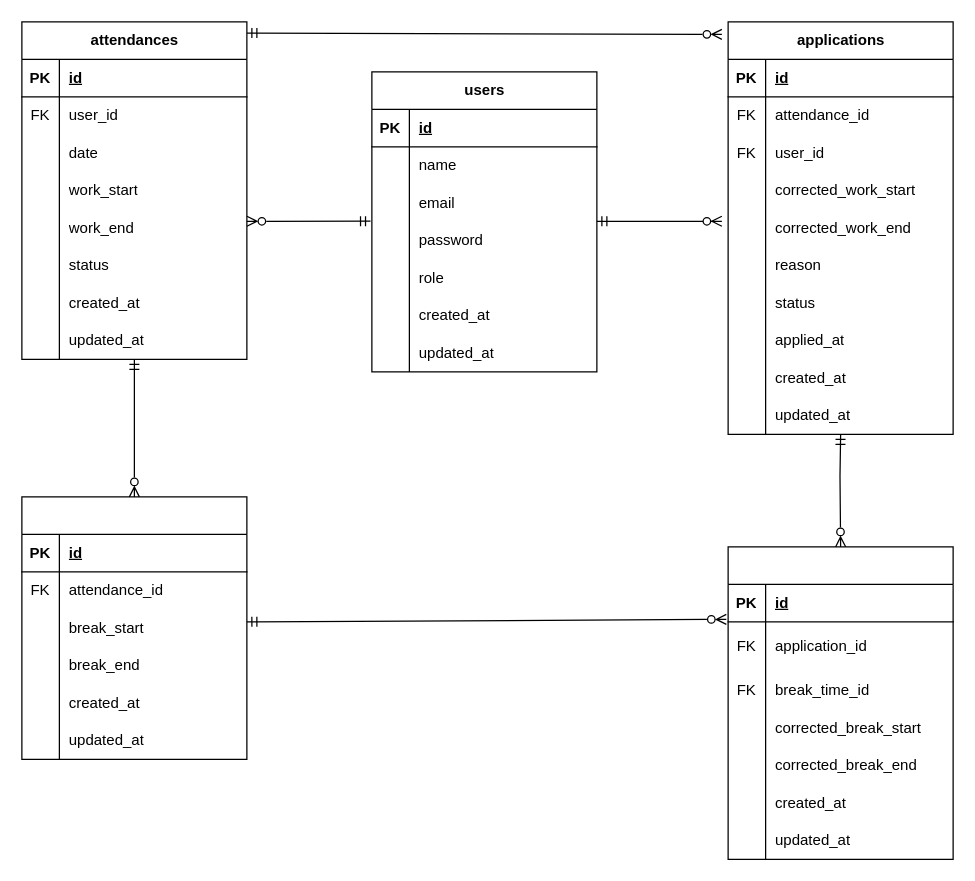
The diagram is 975 pixels wide and 881 high, and some of its shapes have lost their labels. Here are the shapes that lost their labels. From the top down, the box of each, then its label:
(21, 496, 247, 759): break_times
(727, 546, 953, 859): application_breaks
